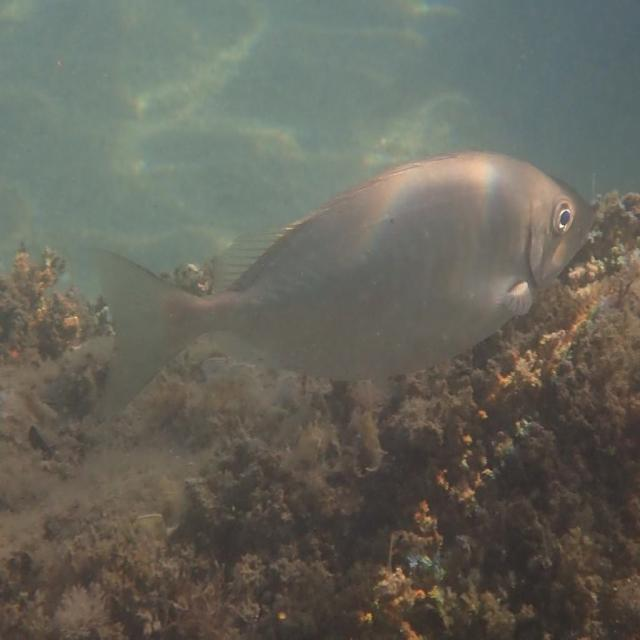Sokar Baligi: (49, 138, 606, 432)
